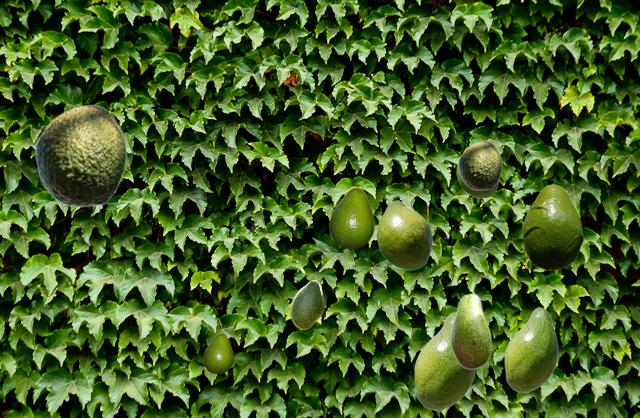avocado: (34, 104, 126, 206), (414, 312, 475, 410), (522, 184, 582, 269), (504, 307, 557, 392), (376, 200, 431, 269), (450, 292, 491, 369), (329, 187, 373, 247), (456, 145, 498, 197), (458, 141, 501, 189), (290, 280, 323, 328), (203, 333, 232, 372)
